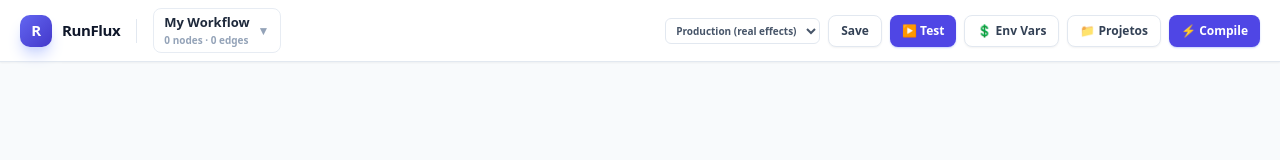
Toolbar — Test (RF-06, RF-12, RN-04) › clears a previous "ok" status as soon as a new test starts, instead of leaving it showing for the whole run
What coordinates should you click on to do the following:
click the button "▶ Test"
I would click on:
 (923, 30)
Its box is [890, 14, 956, 46].
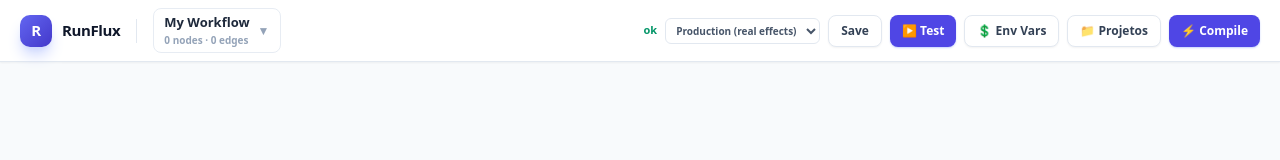
Now the text "ok" is shown, box [644, 22, 657, 39]
What coordinates should you click on to do the following:
click the button "▶ Test"
I would click on:
 (923, 30)
Its box is [890, 14, 956, 46].
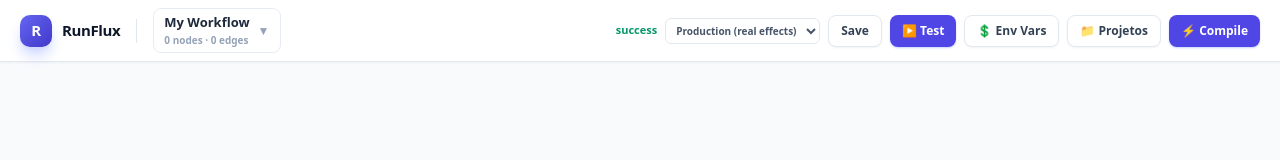
Now the text "ok" is gone
